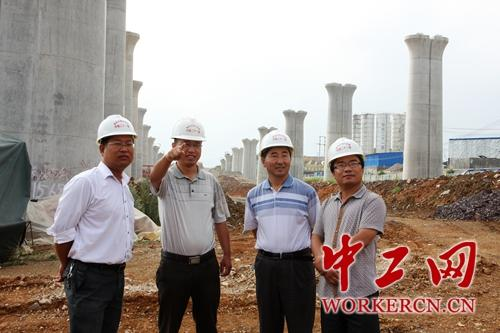hard-hat: (96, 113, 137, 143), (326, 136, 364, 166), (259, 129, 294, 155), (170, 117, 206, 142)
person: (47, 113, 138, 333), (149, 117, 232, 333), (241, 129, 321, 333), (311, 137, 386, 333)
